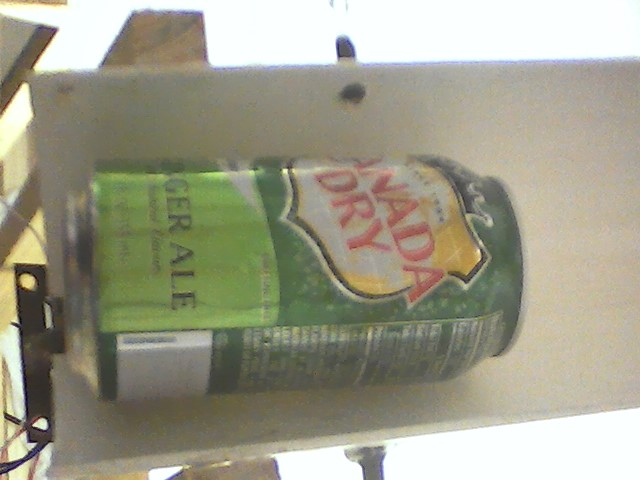lata: (57, 144, 534, 411)
